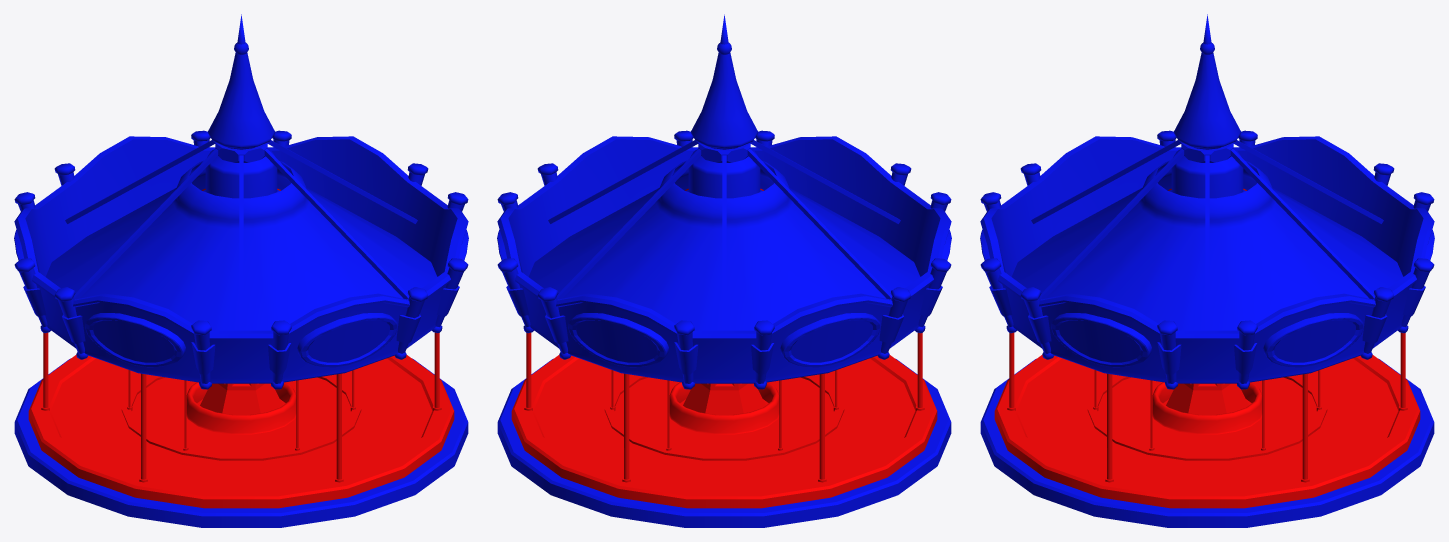
File: Carousel_low.fbx
3 renders of one model, left to right at view 1: azimuth 30°, elevation 25°; view 2: azimuth 150°, elevation 25°; view 3: azimuth 270°, elevation 25°, orthographic.
Parts seen in each view (by area): view 1: Carousel_Base_low, Carousel_Rotator_low; view 2: Carousel_Base_low, Carousel_Rotator_low; view 3: Carousel_Base_low, Carousel_Rotator_low.
Boxes of the visible parts, bbox=[...] form: Carousel_Base_low: bbox=[14, 14, 468, 527]; Carousel_Rotator_low: bbox=[28, 188, 454, 508]; Carousel_Base_low: bbox=[497, 14, 951, 527]; Carousel_Rotator_low: bbox=[511, 188, 937, 508]; Carousel_Base_low: bbox=[980, 14, 1434, 527]; Carousel_Rotator_low: bbox=[994, 188, 1420, 508].
Bounding box in the file's own units: 776 × 758 × 745.
